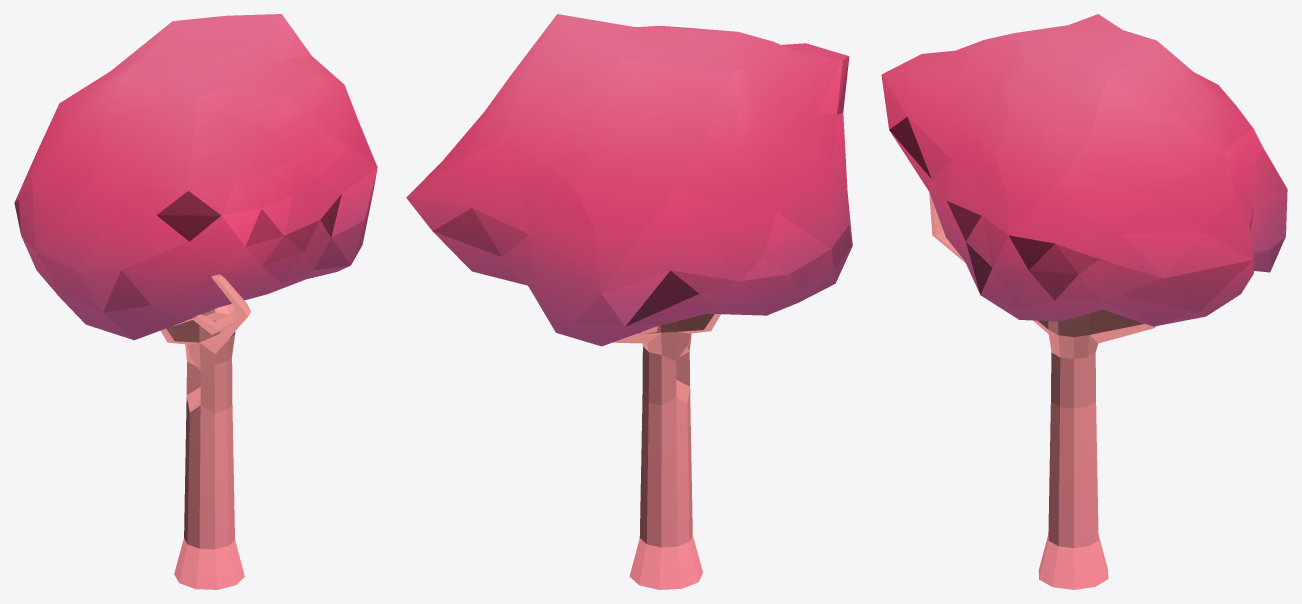
The model's file is Sunset_Plant_002.FBX.
3 renders of one model, left to right at view 1: azimuth 30°, elevation 25°; view 2: azimuth 150°, elevation 25°; view 3: azimuth 270°, elevation 25°, orthographic. The views are drawn at different scales.
Parts seen in each view (by area): view 1: Sunset_Plant_002; view 2: Sunset_Plant_002; view 3: Sunset_Plant_002.
Part boxes in pixels (x1,y1,x2,y2): Sunset_Plant_002: (14, 14, 377, 589); Sunset_Plant_002: (406, 14, 852, 589); Sunset_Plant_002: (881, 14, 1287, 589).
Size of the model in its own units: 120 by 183 by 125.
1 material, 1 textured.
